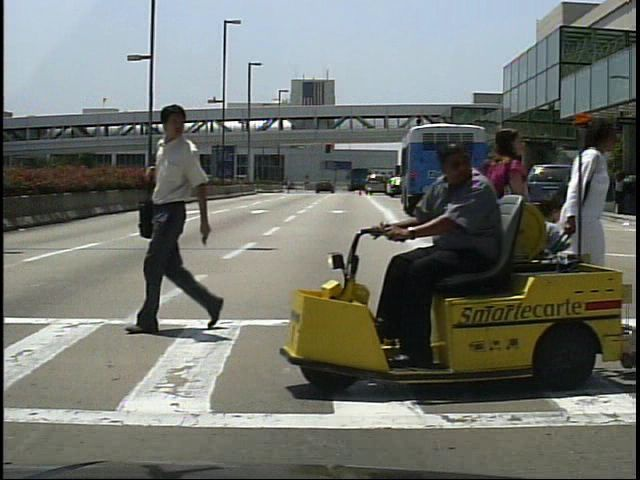person: (378, 141, 514, 369), (121, 99, 219, 331), (544, 111, 621, 367), (462, 124, 531, 357), (525, 191, 562, 328), (581, 167, 602, 217), (501, 166, 519, 218), (486, 163, 505, 212)
